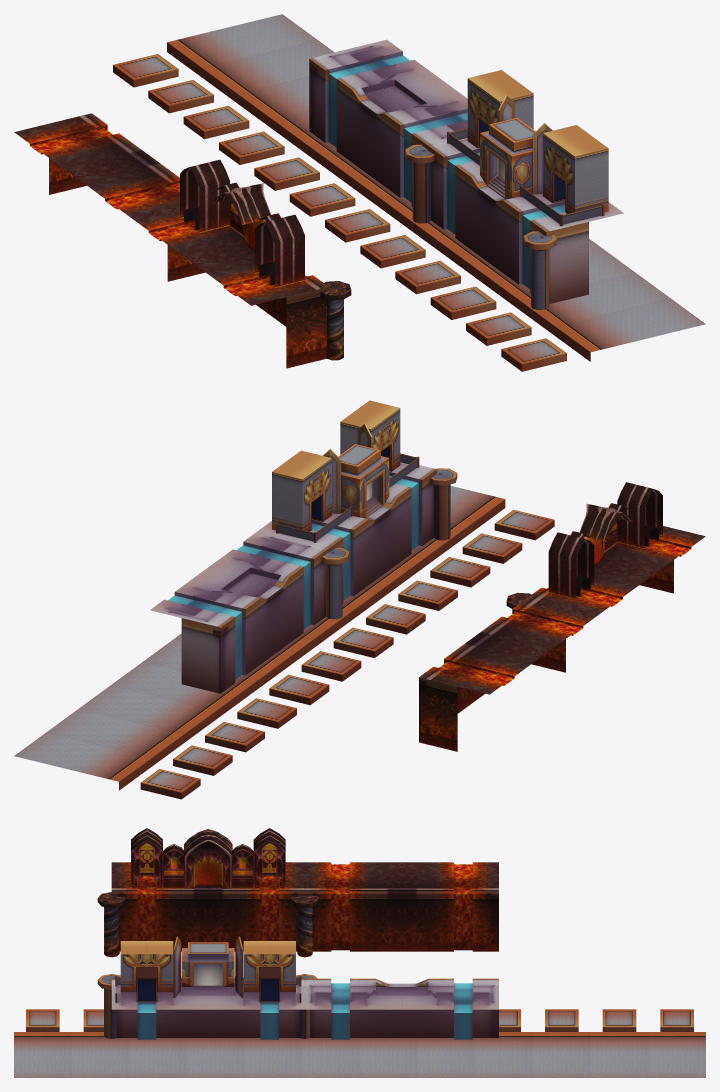
Rendered from S99_FrontGround.FBX.
The picture shows the model from 3 angles, top to bottom: view 1: azimuth 30°, elevation 25°; view 2: azimuth 150°, elevation 25°; view 3: azimuth 270°, elevation 25°; orthographic projection. The views are drawn at different scales.
Parts seen in each view (by area): view 1: S99_FrontGround; view 2: S99_FrontGround; view 3: S99_FrontGround.
Boxes of the visible parts, left/top/right/bottom form: S99_FrontGround: left=14, top=14, right=705, bottom=371; S99_FrontGround: left=14, top=400, right=705, bottom=799; S99_FrontGround: left=14, top=828, right=705, bottom=1077.
Size of the model in its own units: 8627 by 16020 by 3188.
